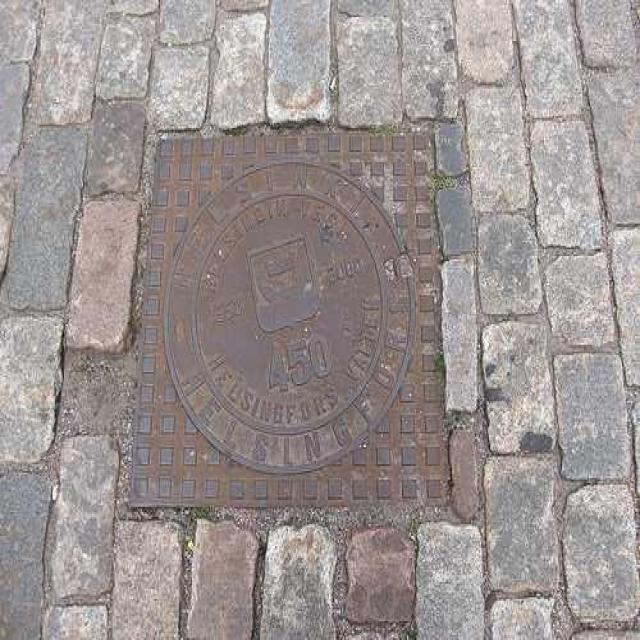manhole: (129, 123, 479, 522)
